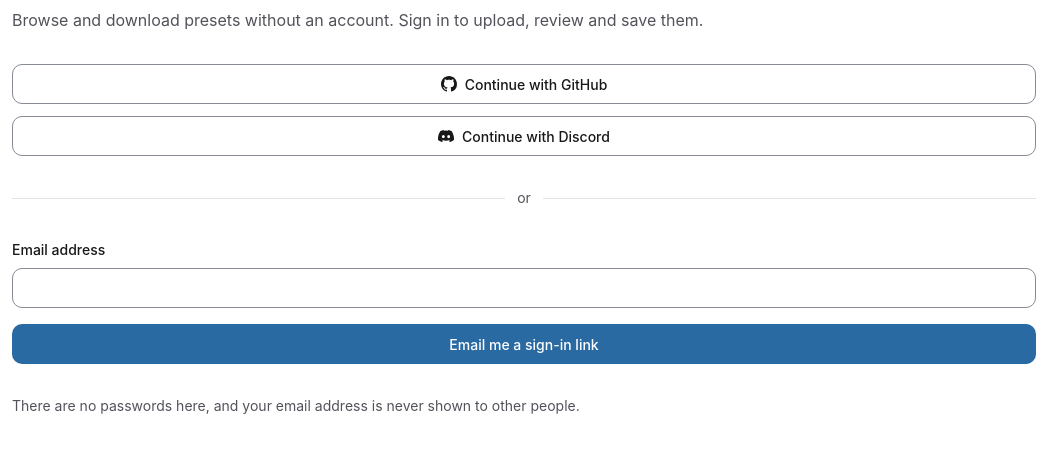
an empty email field says what to do instead of sending
This screenshot has width=1048, height=459.
Click the button "Email me a sign-in link": (524, 344) [12,324,1036,364]
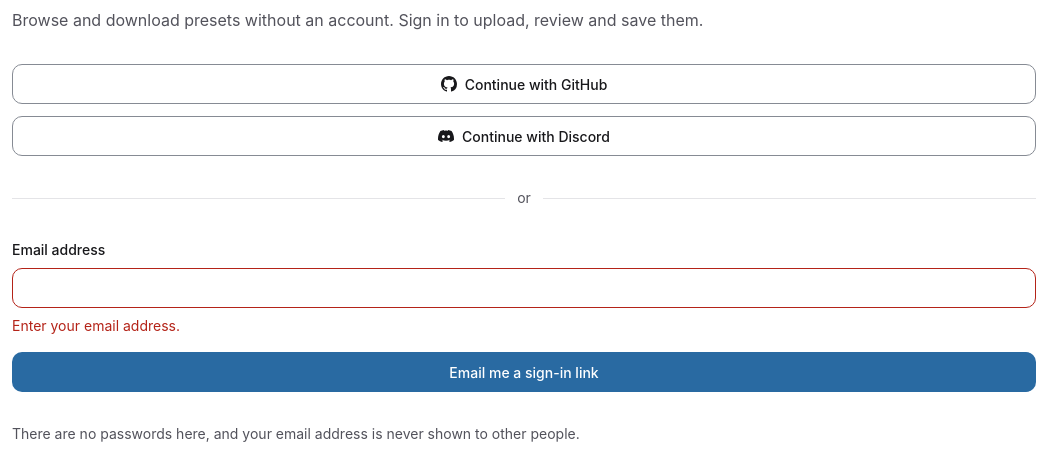
Result: the text "Enter your email address." is shown at [12,317,180,334]
